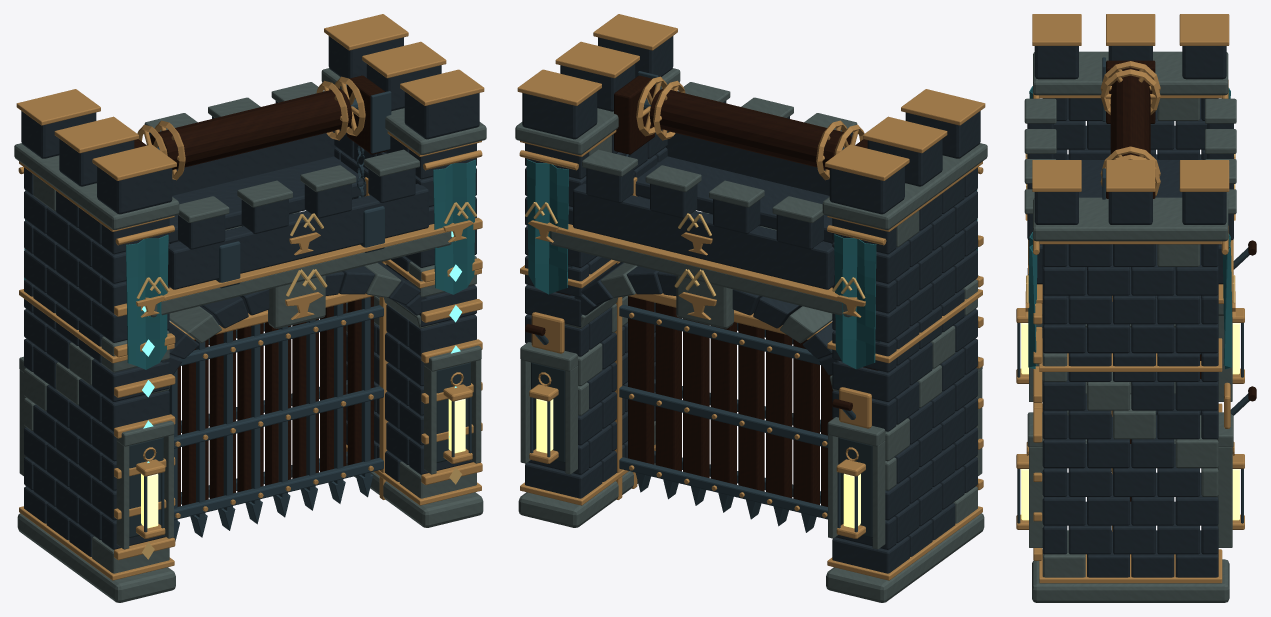
File: gatehouse.glb
3 renders of one model, left to right at view 1: azimuth 30°, elevation 25°; view 2: azimuth 150°, elevation 25°; view 3: azimuth 270°, elevation 25°, orthographic. The views are drawn at different scales.
Parts seen in each view (by area): view 1: Ashlar course 00.001, Splayed footing, Continuous bronze band, Iron vertical facing, Oak gate stave, Folded teal pennant, Oak drum, Lantern niche backing, Bronze winch wheel, Iron buttress cheek, Lantern glass, Bronze rivet (+10 smaller); view 2: Ashlar course 00.001, Splayed footing, Oak gate stave, Continuous bronze band, Iron vertical facing, Folded teal pennant, Oak drum, Lantern niche backing, Portcullis guide, Winch bearing block, Bronze winch wheel, Lantern glass (+3 smaller); view 3: Ashlar course 00.001, Splayed footing, Continuous bronze band, Oak drum, Folded teal pennant, Bronze winch wheel, Lantern glass, Lantern cage, Winch bearing block, Winch bearing strap, Portcullis guide, Reinforcement collar.006 (+1 smaller).
Boxes of the visible parts, x1,y1,x2,y2 form: Ashlar course 00.001: (21, 36, 479, 556); Splayed footing: (14, 68, 486, 602); Continuous bronze band: (16, 14, 484, 580); Iron vertical facing: (168, 297, 383, 541); Oak gate stave: (177, 296, 373, 506); Folded teal pennant: (24, 159, 475, 369); Oak drum: (150, 88, 352, 169); Lantern niche backing: (129, 362, 470, 538); Bronze winch wheel: (137, 76, 365, 180); Iron buttress cheek: (216, 206, 384, 288); Lantern glass: (141, 399, 465, 528); Bronze rivet: (170, 293, 373, 518); Ashlar course 00.001: (522, 36, 980, 573); Splayed footing: (515, 68, 987, 602); Oak gate stave: (628, 296, 833, 506); Continuous bronze band: (517, 14, 985, 580); Iron vertical facing: (619, 302, 827, 532); Folded teal pennant: (526, 159, 978, 369); Oak drum: (649, 88, 851, 169); Lantern niche backing: (531, 362, 872, 538); Portcullis guide: (531, 177, 871, 499); Winch bearing block: (525, 75, 867, 410); Bronze winch wheel: (636, 76, 864, 180); Lantern glass: (536, 399, 860, 528); Ashlar course 00.001: (1027, 46, 1233, 577); Splayed footing: (1024, 51, 1236, 602); Continuous bronze band: (1016, 14, 1244, 583); Oak drum: (1110, 75, 1150, 157); Folded teal pennant: (1028, 86, 1231, 369); Bronze winch wheel: (1100, 61, 1160, 196); Lantern glass: (1021, 323, 1239, 520); Lantern cage: (1017, 323, 1243, 523); Winch bearing block: (1106, 60, 1256, 401); Winch bearing strap: (1102, 57, 1249, 415); Portcullis guide: (1112, 295, 1230, 531); Reinforcement collar.006: (1033, 408, 1042, 442).
Size of the model in its own units: 5.7 by 6.23 by 3.26.
Materials: 10 (3 with a texture image).
